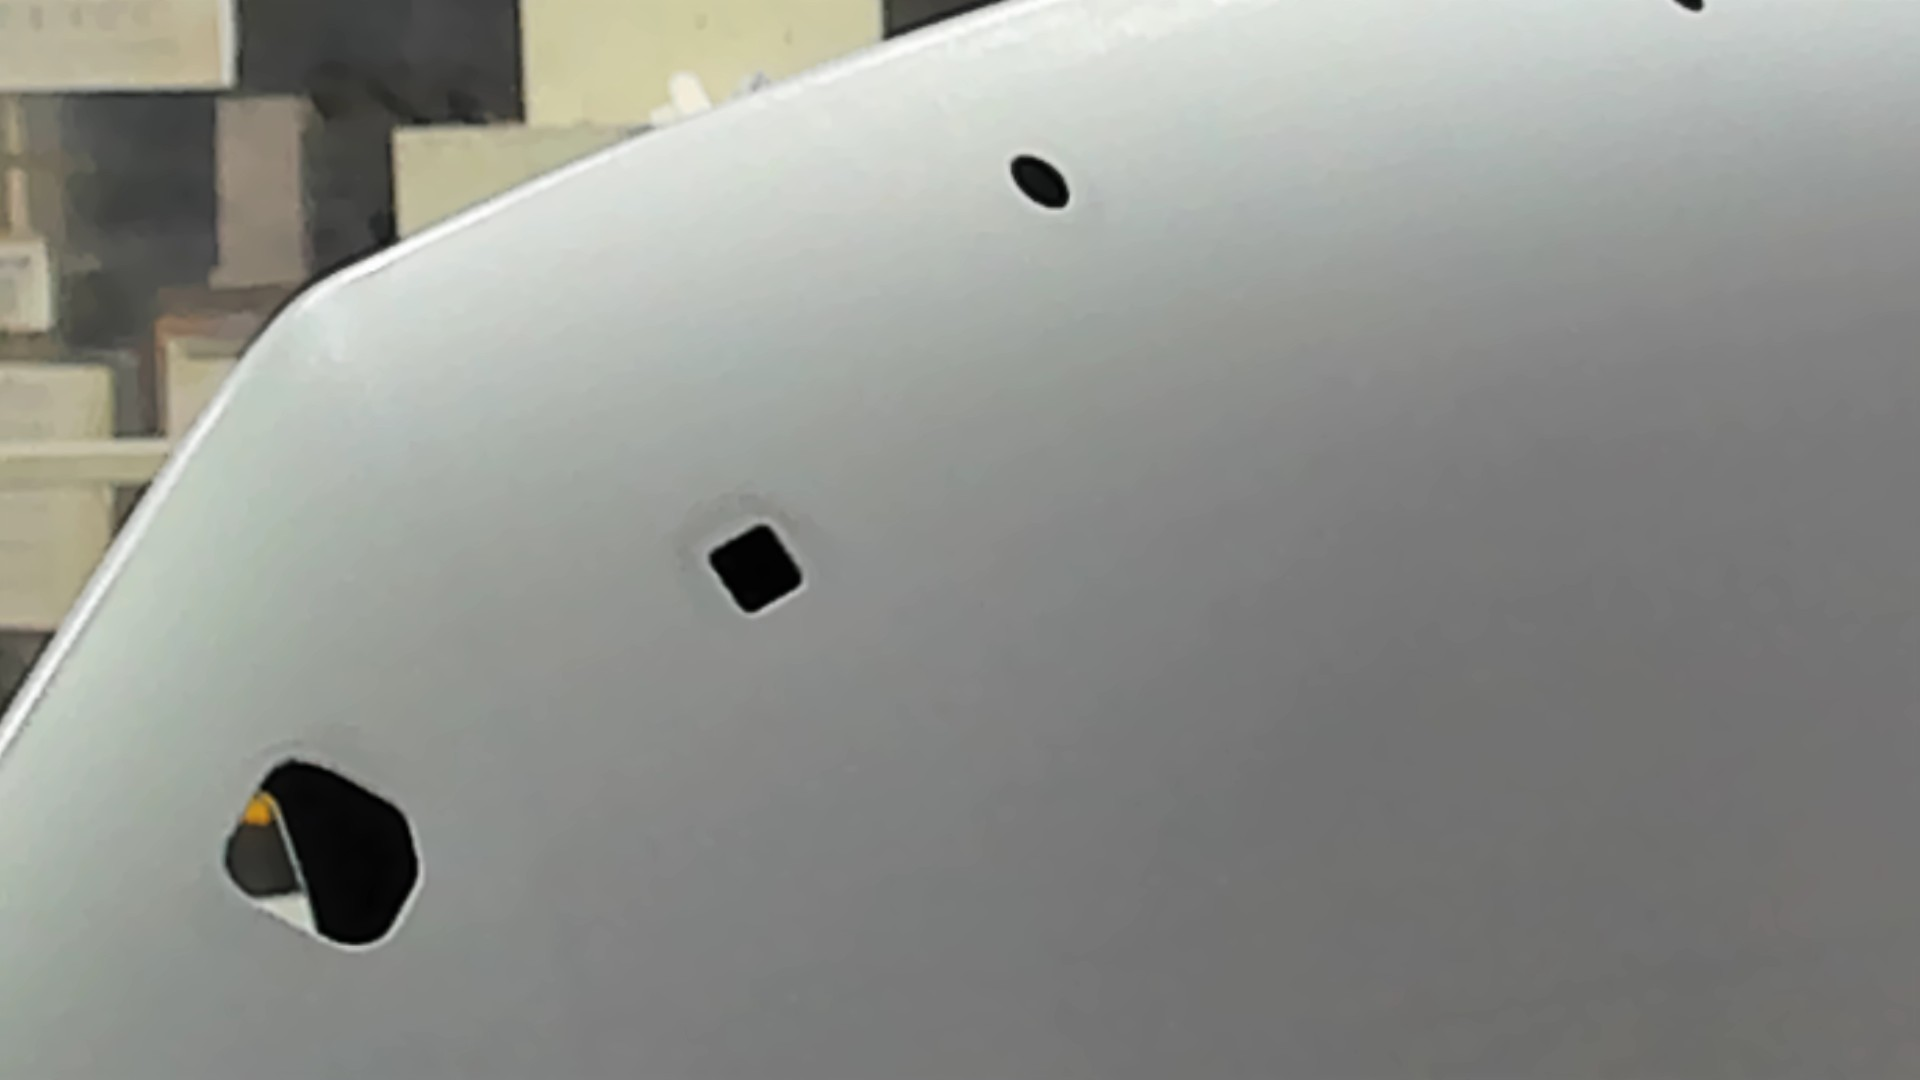capo: (824, 222, 1920, 1080)
chico: (1007, 150, 1075, 214)
grande: (218, 752, 423, 956)
mediano: (703, 517, 807, 622)
